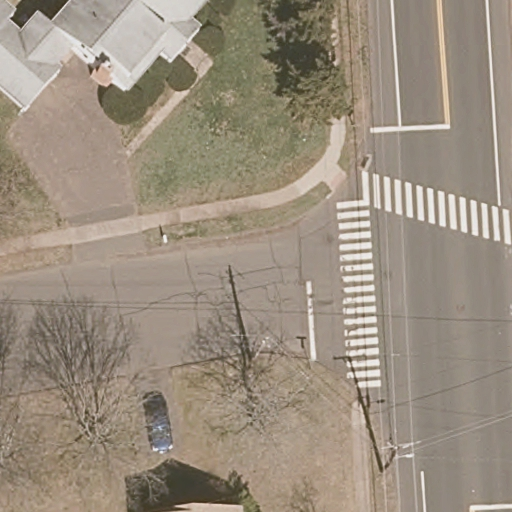DT: (380, 441, 415, 475), (242, 333, 270, 366)
